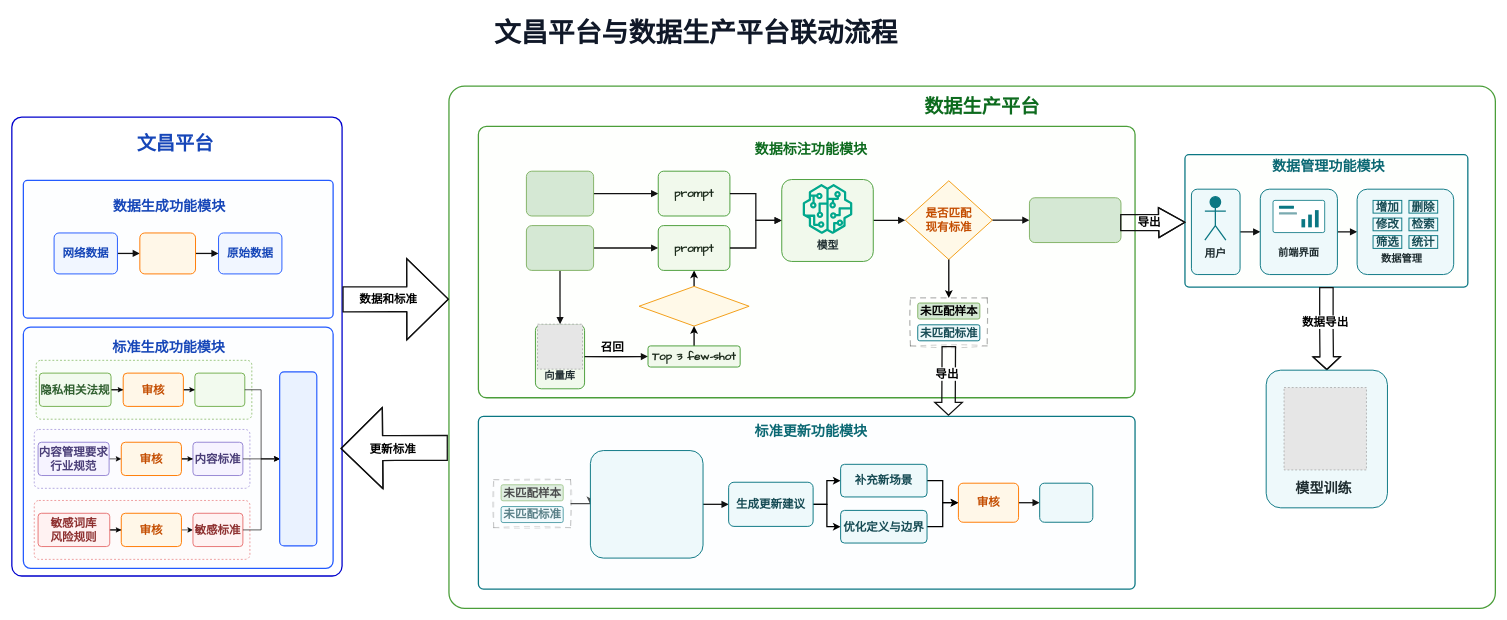
Some shapes in this 1507 by 620 pixel diagram are drawn without their labels. Grey dashed boxes stand in for pictures. The box of each missing label's shape, as (x1, y1, x2, y2) in pixels:
余弦相似度 > 0.7: (638, 286, 749, 326)
分析标准问题 • 类别覆盖不足 • 描述不清 • 类别边界不完善: (590, 450, 703, 558)
图片样本: (526, 225, 594, 271)
文本样本: (526, 170, 594, 216)
新标准: (1039, 482, 1093, 522)
标准库: (279, 371, 317, 546)
爬虫: (139, 232, 196, 274)
获得数据标签: (1029, 197, 1121, 243)
隐私标准: (194, 372, 245, 407)
